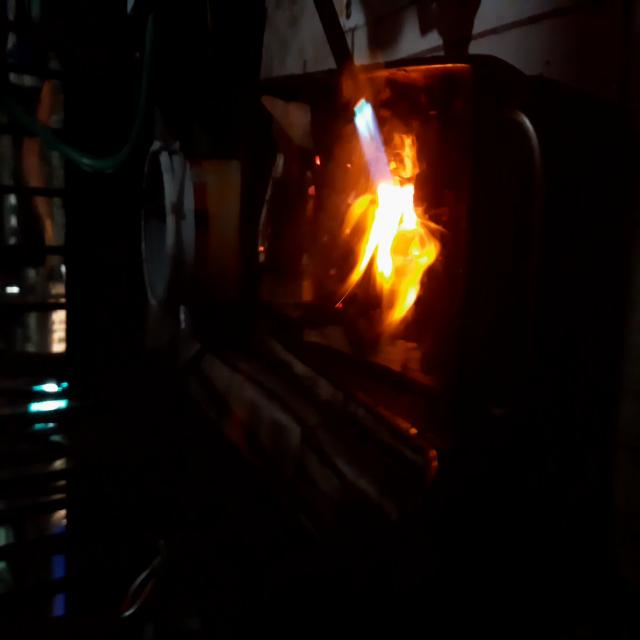Fire: (338, 94, 441, 331)
